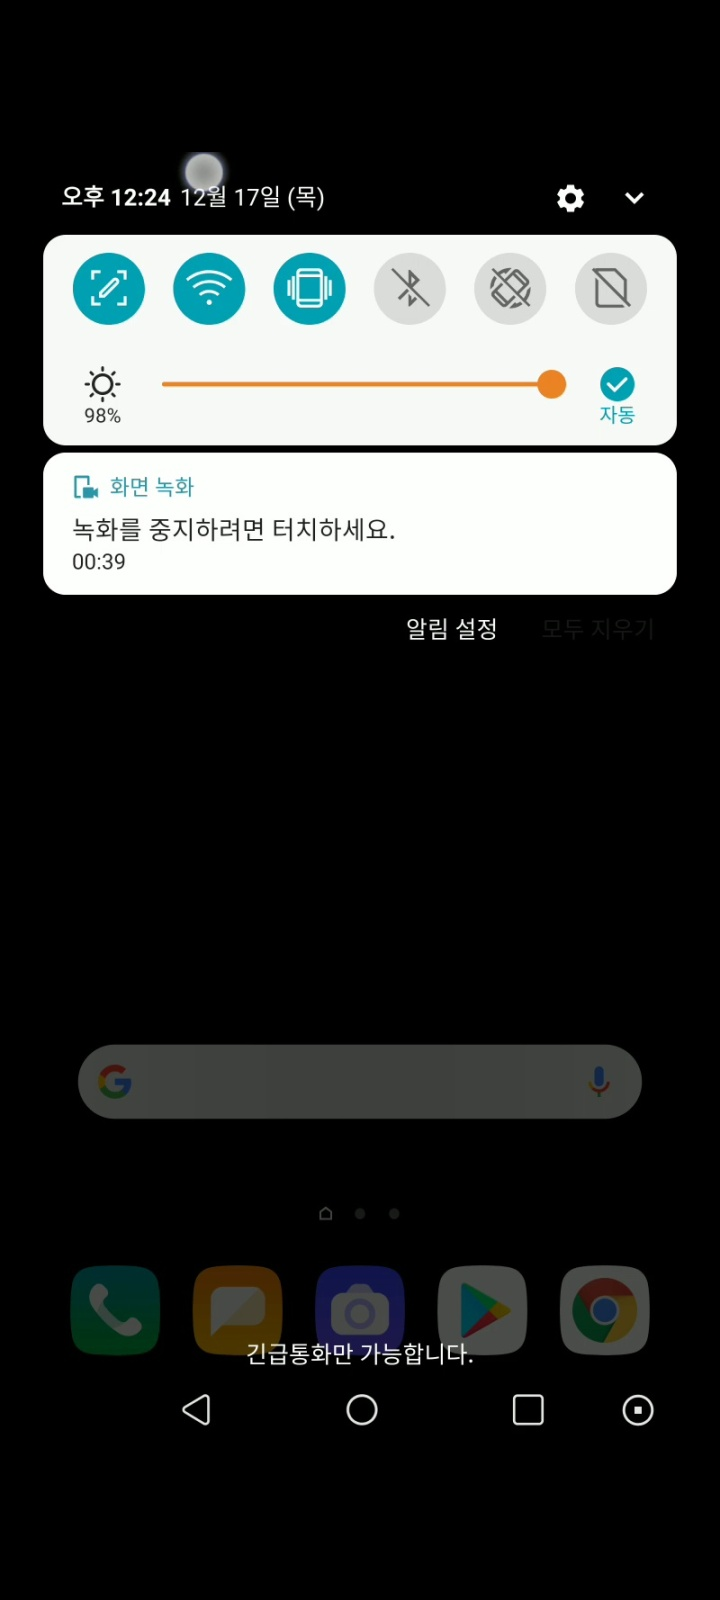Cursor: (181, 153, 226, 197)
